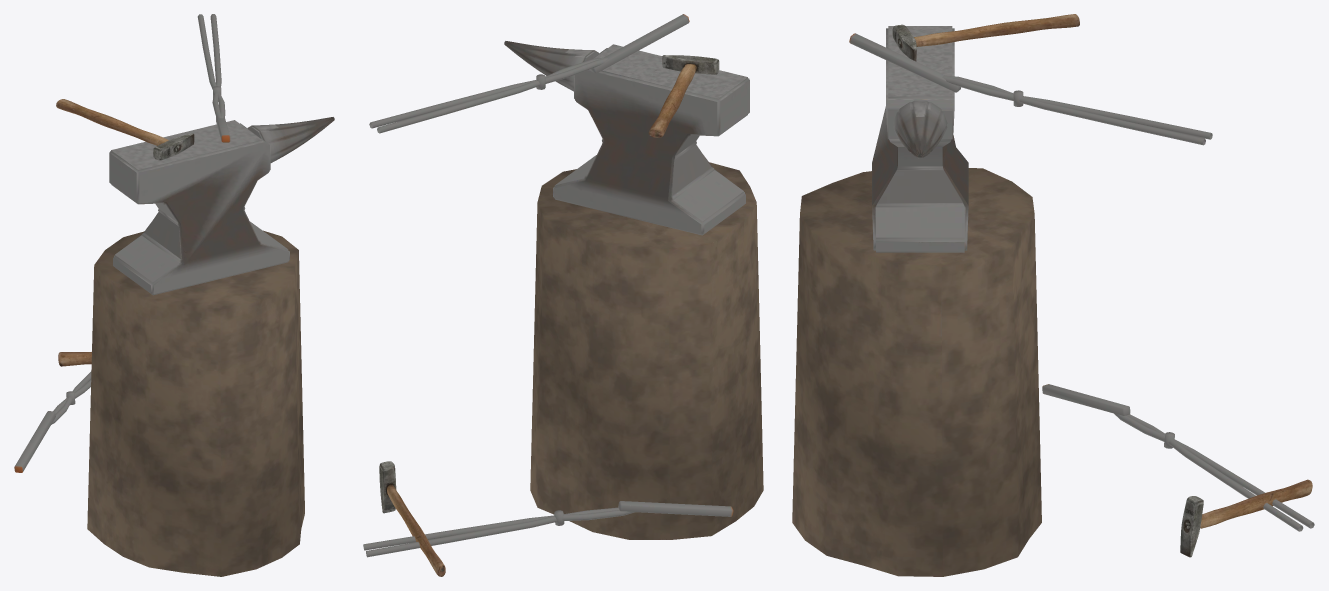
File: village-smith-props.glb
3 renders of one model, left to right at view 1: azimuth 30°, elevation 25°; view 2: azimuth 150°, elevation 25°; view 3: azimuth 270°, elevation 25°, orthographic. The views are drawn at different scales.
Visible parts, largest first — view 1: workplace_static, prop_hammer_rest, prop_tongs_rest, prop_workpiece, prop_tongs, prop_hammer; view 2: workplace_static, prop_tongs, prop_tongs_rest, prop_hammer_rest, prop_hammer, prop_workpiece, prop_workpiece_rest; view 3: workplace_static, prop_tongs_rest, prop_hammer, prop_tongs, prop_hammer_rest, prop_workpiece_rest, prop_workpiece.
Part boxes in pixels (x1,y1,x2,y2): workplace_static: [87, 117, 334, 576]; prop_hammer_rest: [56, 99, 194, 160]; prop_tongs_rest: [197, 14, 225, 118]; prop_workpiece: [14, 411, 55, 472]; prop_tongs: [51, 371, 91, 424]; prop_hammer: [58, 352, 91, 366]; workplace_static: [504, 41, 763, 539]; prop_tongs: [363, 507, 634, 557]; prop_tongs_rest: [369, 57, 607, 133]; prop_hammer_rest: [648, 55, 719, 137]; prop_hammer: [379, 461, 445, 576]; prop_workpiece: [618, 501, 733, 516]; prop_workpiece_rest: [590, 14, 689, 73]; workplace_static: [792, 26, 1041, 576]; prop_tongs_rest: [942, 75, 1212, 145]; prop_hammer: [1180, 479, 1312, 557]; prop_tongs: [1114, 413, 1314, 531]; prop_hammer_rest: [892, 14, 1079, 61]; prop_workpiece_rest: [849, 33, 960, 92]; prop_workpiece: [1042, 384, 1130, 415].
Bounding box in the file's own units: 0.5779 × 0.8581 × 0.8368.
Materials: 1 (1 with a texture image).
